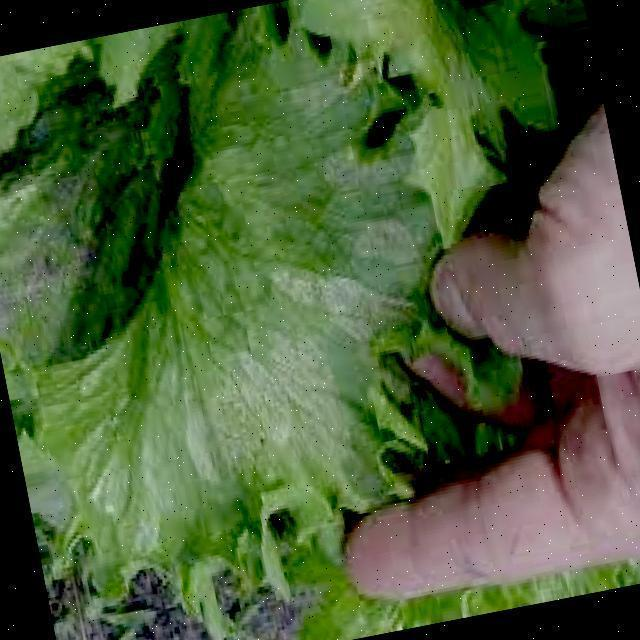Bad: (46, 0, 554, 608)
